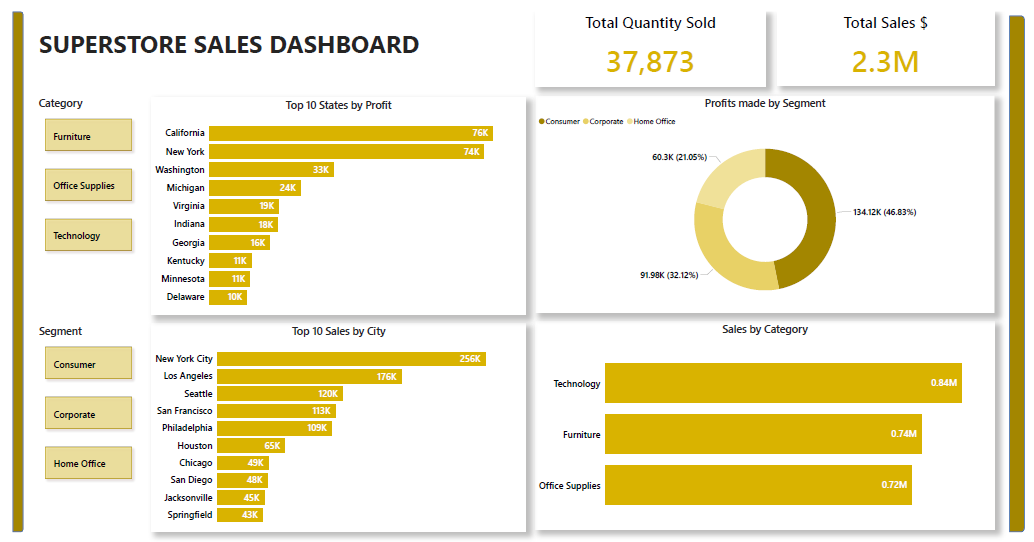

Layout of this report page (visuals, bound fields, positions):
{"tool":"powerbi","page":{"name":"2024 EDITION","canvas":[1920,1080],"ordinal":1},"visuals":[{"type":"barChart","title":"Top 10 Sales by City","fields":{"Category":["Orders.City"],"Y":["Sum(Orders.Sales)"]},"box":[245.9,553,663.5,367.6],"z":0,"group":"g1"},{"type":"barChart","fields":{"Y":["Sum(Orders.Sales)"],"Category":["Orders.Category"]},"box":[926.4,549.4,812.3,367.7],"z":1000,"group":"g1"},{"type":"advancedSlicerVisual","fields":{"Values":["Orders.Category"]},"box":[41.1,148.6,187.1,292.1],"z":2000,"group":"g1"},{"type":"donutChart","title":"Profits made by Segment","fields":{"Category":["Orders.Segment"],"Y":["Sum(Orders.Profit)"]},"box":[926.4,148.6,812.3,385.3],"z":3000,"group":"g1"},{"type":"card","title":"Total Quantity Sold","fields":{"Values":["Sum(Orders.Quantity)"]},"box":[926,0,408.2,133.3],"z":4000,"group":"g1"},{"type":"advancedSlicerVisual","fields":{"Values":["Orders.Segment"]},"box":[41.6,553.2,187.1,291.8],"z":5000,"group":"g1"},{"type":"card","title":" Total Sales $","fields":{"Values":["Sum(Orders.Sales)"]},"box":[1355.1,0,382.5,131.2],"z":6000,"group":"g1"},{"type":"barChart","title":"Top 10 States by Profit","fields":{"Y":["Sum(Orders.Profit)"],"Category":["Orders.State"]},"box":[245.9,152.3,663.5,385.1],"z":7000,"group":"g1"},{"type":"group","id":"g1","title":"Group 1","box":[0,0,1792,922],"z":7001},{"type":"textbox","box":[41.6,23.3,727.6,87.5],"z":8000,"group":"g1"},{"type":"shape","box":[0,0,18.7,922],"z":9000,"group":"g1"},{"type":"shape","box":[1765,7,27,915],"z":10000,"group":"g1"}]}

Visuals, with their boxes on the page's 1920x1080 design canvas (x1, y1, x2, y2). These are canvas units, not pixel positions in the 1034x542 screenshot, which may show the page scaled, cropped or inside an application window:
"Top 10 Sales by City" barChart: 246/553/909/921
barChart - Sum(Orders.Sales) x Orders.Category: 926/549/1739/917
advancedSlicerVisual - Orders.Category: 41/149/228/441
"Profits made by Segment" donutChart: 926/149/1739/534
"Total Quantity Sold" card: 926/0/1334/133
advancedSlicerVisual - Orders.Segment: 42/553/229/845
" Total Sales $" card: 1355/0/1738/131
"Top 10 States by Profit" barChart: 246/152/909/537
"Group 1" group: 0/0/1792/922
textbox: 42/23/769/111
shape: 0/0/19/922
shape: 1765/7/1792/922
